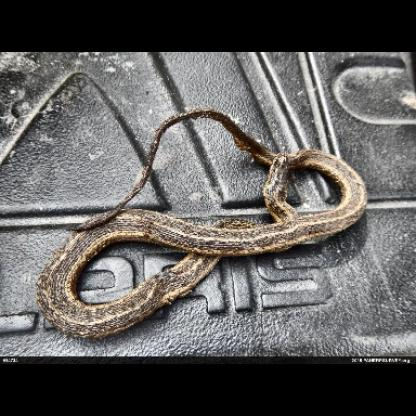Snake: (43, 105, 367, 340)
